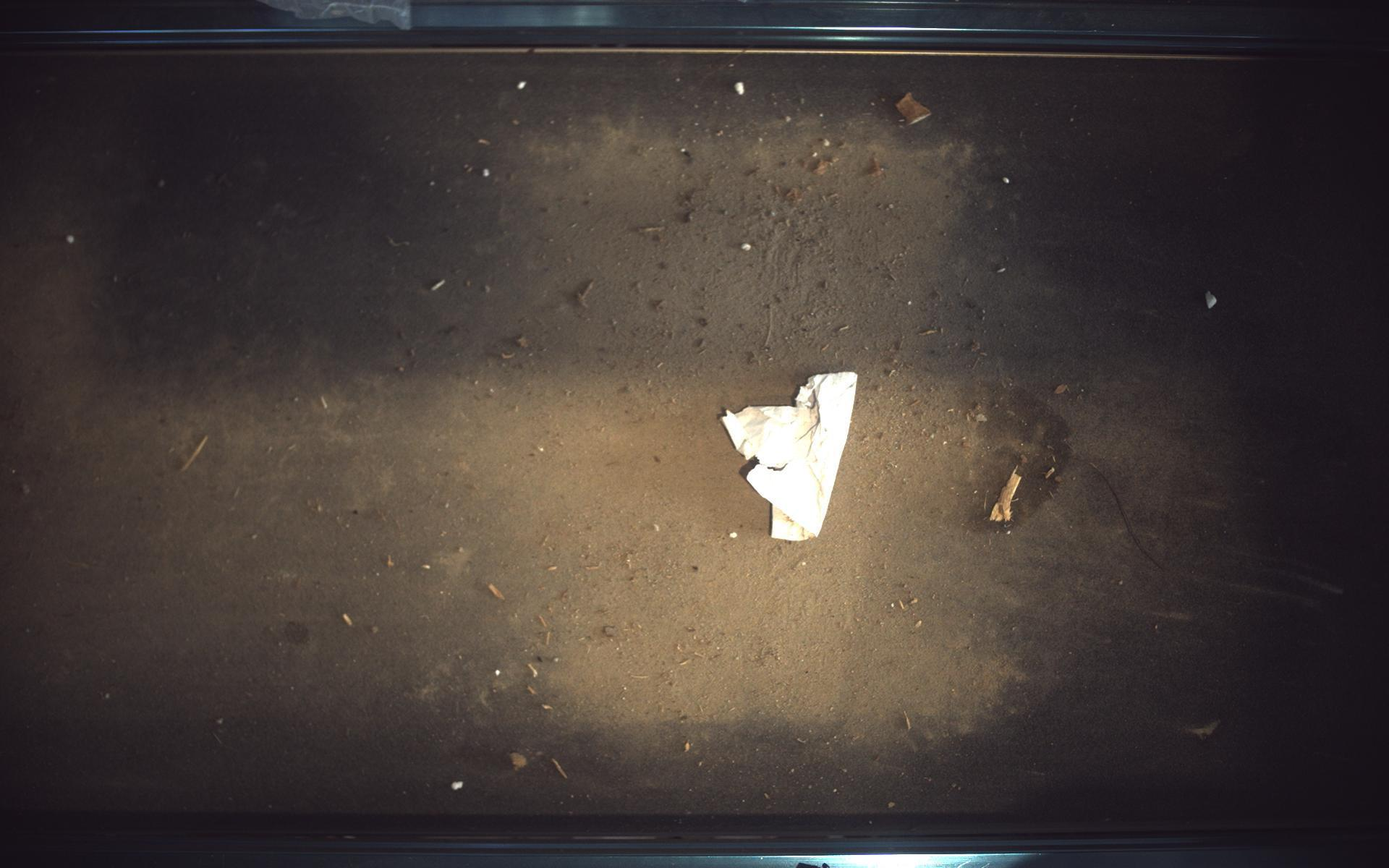general_w: (723, 373, 859, 541)
